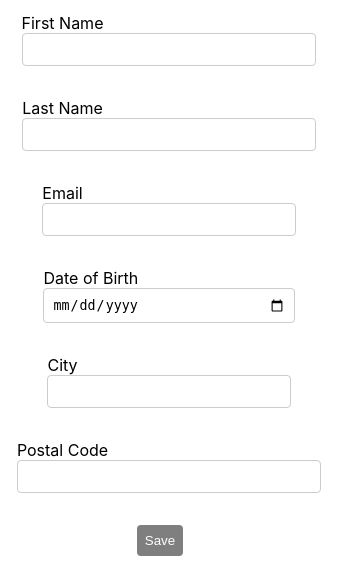
Test: RegistrationForm Component › active le bouton lorsque le formulaire est valide
Type "John" into the field labelled "First Name" at (169, 50), box [22,33,316,66]
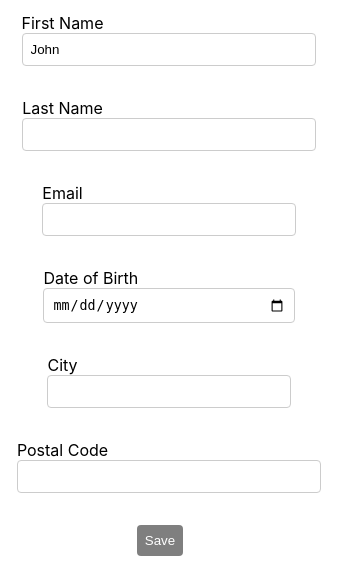
Type "Doe" into the field labelled "Last Name" at (169, 134), box [22,118,316,151]
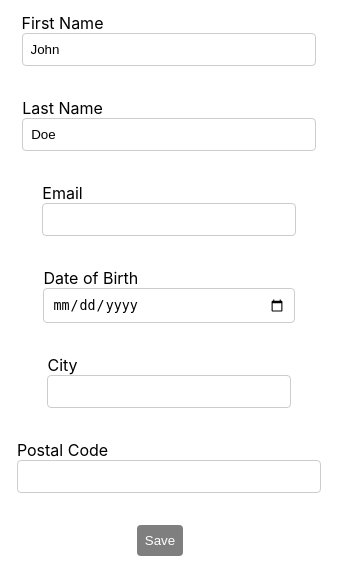
Type "john.doe@example.com" into the field labelled "Email" at (169, 220), box [42,203,296,236]
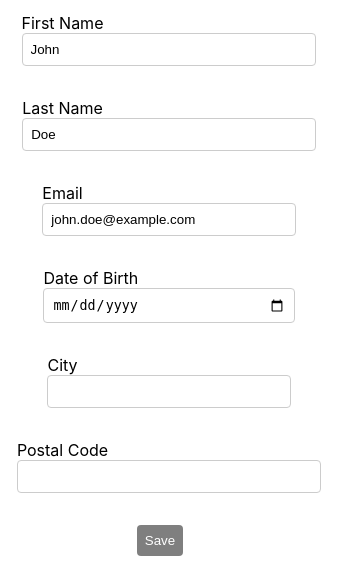
Type "1990-01-01" into the date field labelled "Date of Birth" at (169, 306), box [44,288,295,323]
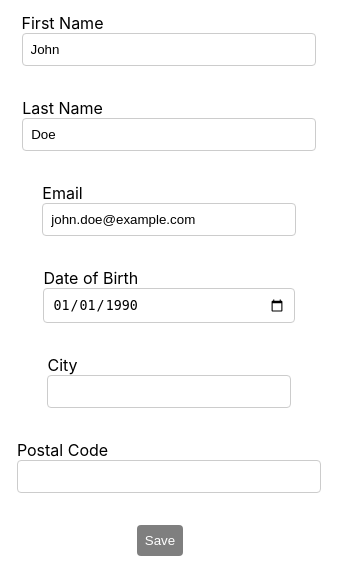
Type "Paris" into the field labelled "City" at (169, 392), box [47,375,290,408]
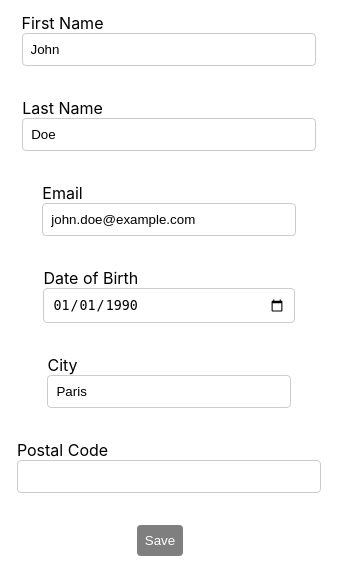
Type "75000" into the field labelled "Postal Code" at (169, 477), box [17,460,321,493]
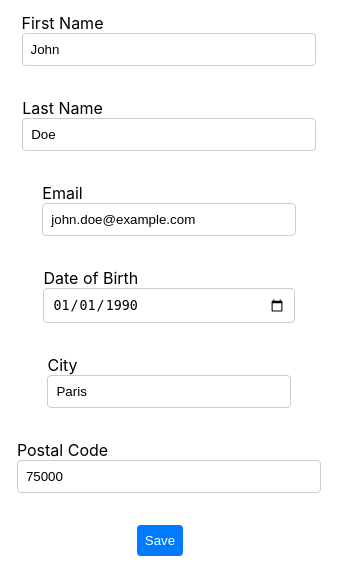
Check: the button "Save" is enabled, box [137,525,183,556]
